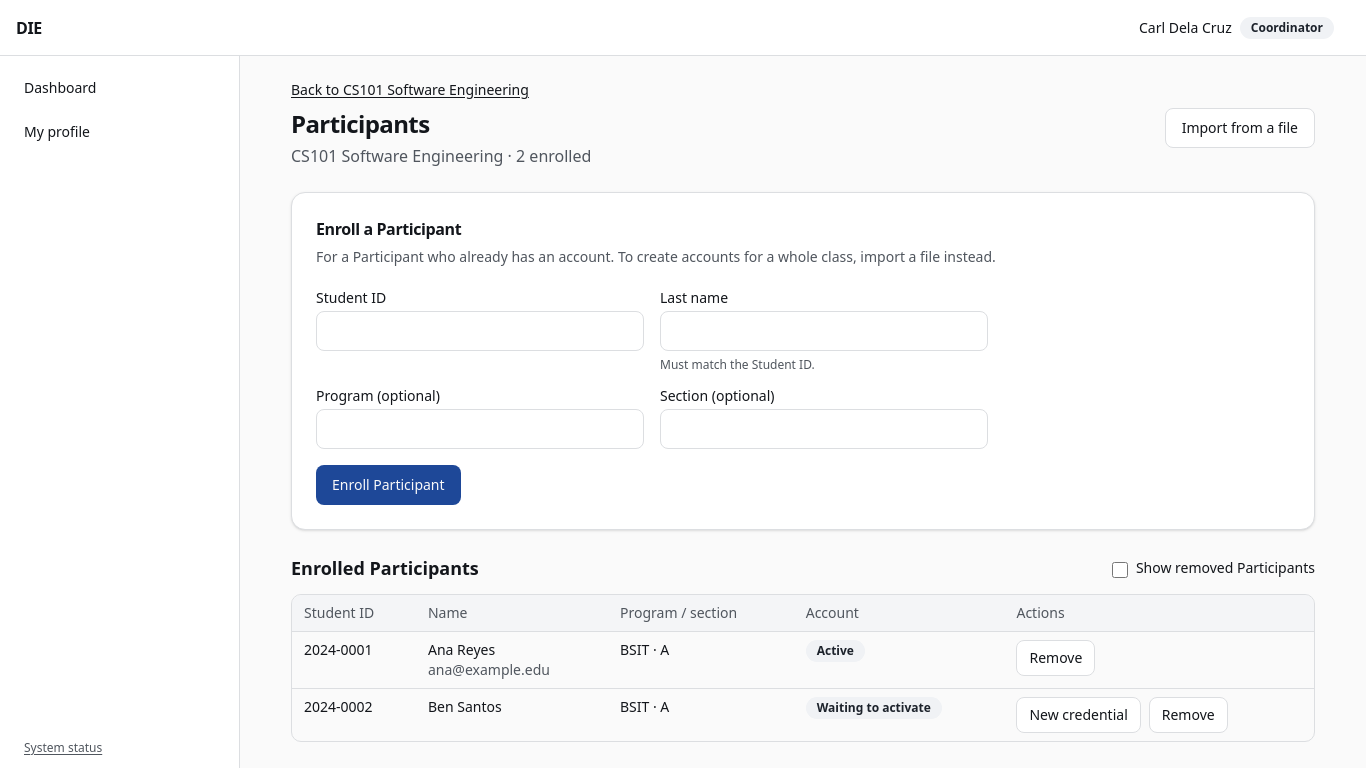
Test: Enroll a Participant › enrolls with the details given and clears the form
This screenshot has width=1366, height=768.
Type "2024-0099" into the field labelled "Student ID" at (480, 331), box [316,311,644,351]
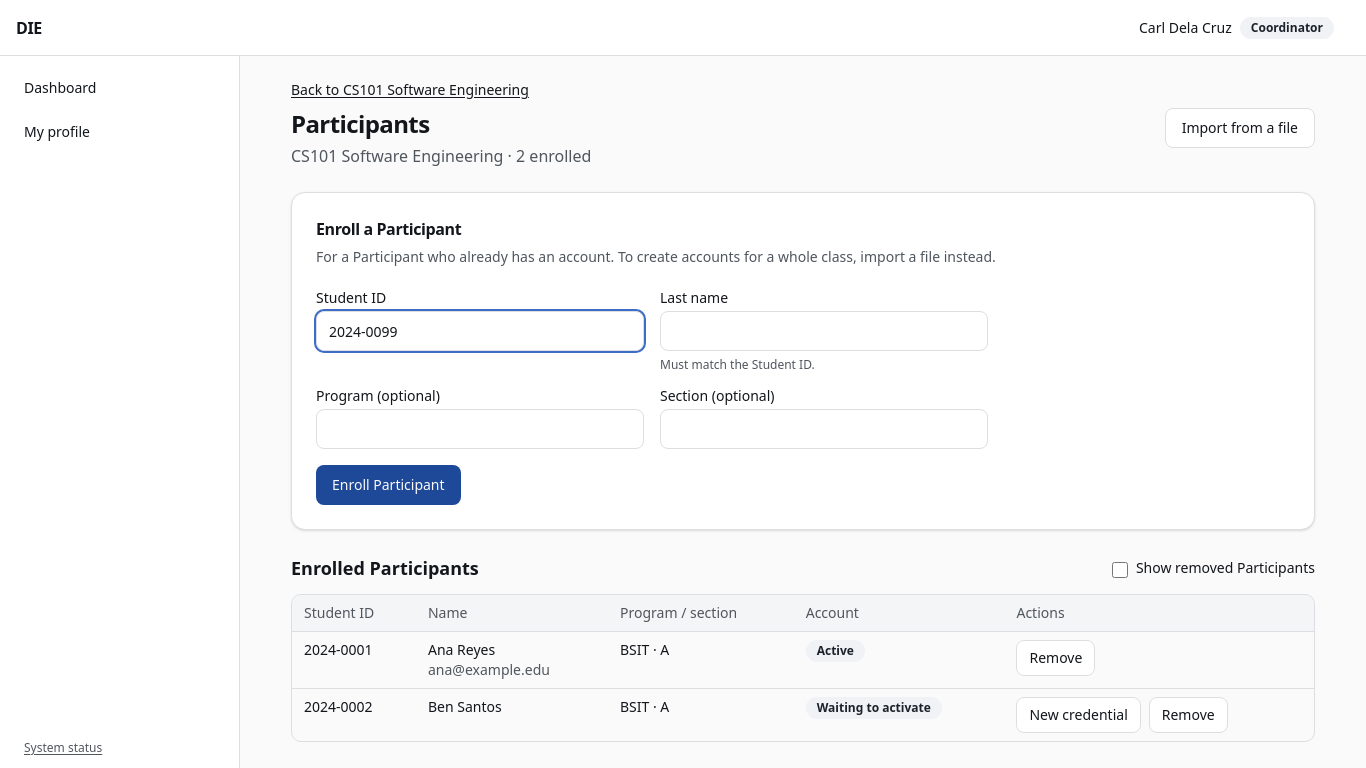
Type "Lim" into the field labelled "Last name" at (824, 331), box [660,311,988,351]
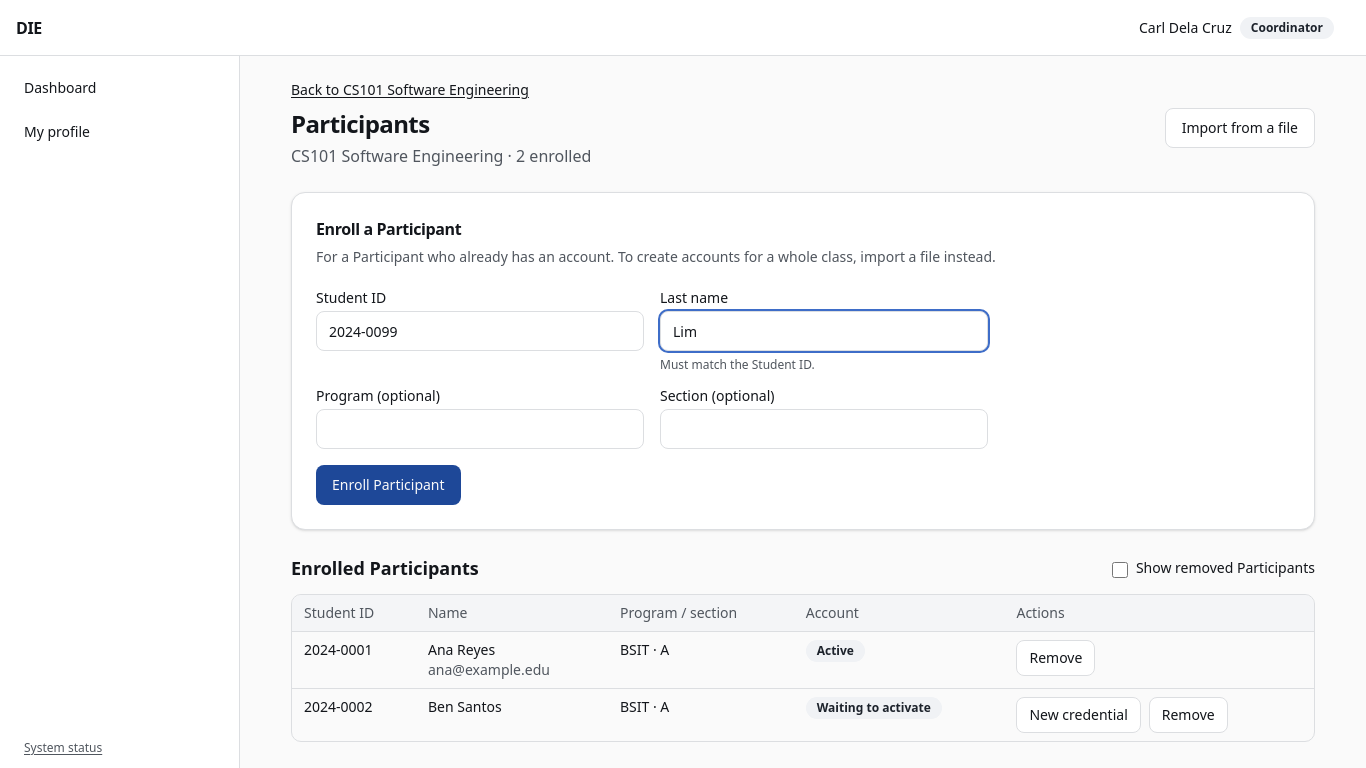
Type "B" into the field labelled "Section (optional)" at (824, 429), box [660,409,988,449]
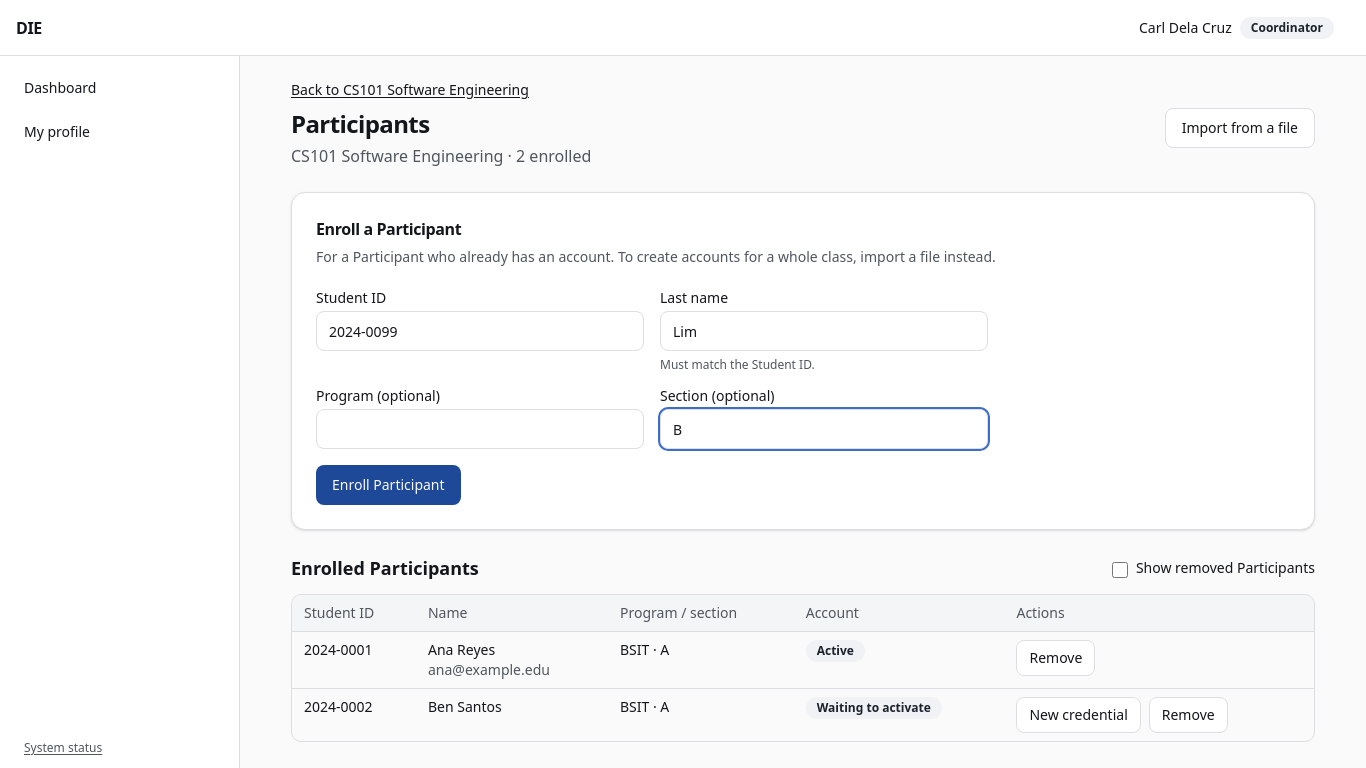
Click the button "Enroll Participant" at (388, 485), box [316,465,460,505]
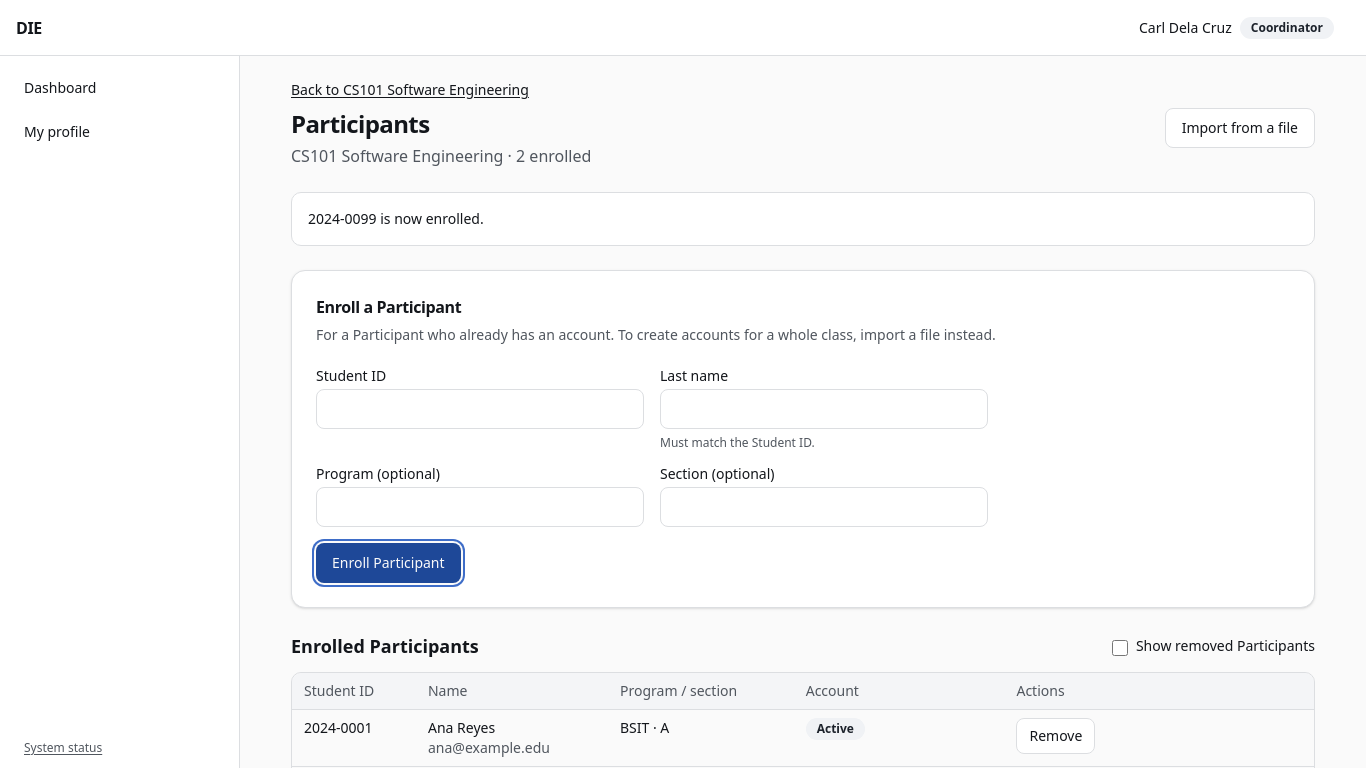
Expected: the text "2024-0099 is now enrolled." is shown, [308,209,484,228]
Expected: the field labelled "Student ID" is empty, [316,389,644,429]
